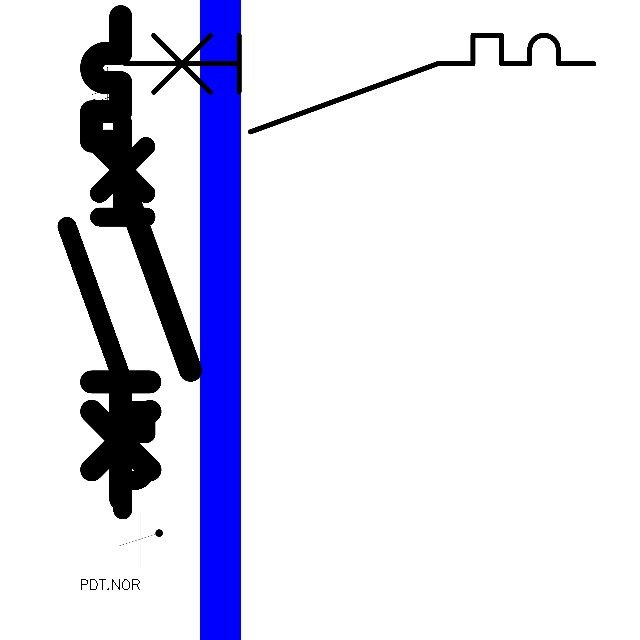interruptor_termomagnetico: (79, 4, 203, 511), (113, 23, 606, 143), (57, 113, 156, 520)
